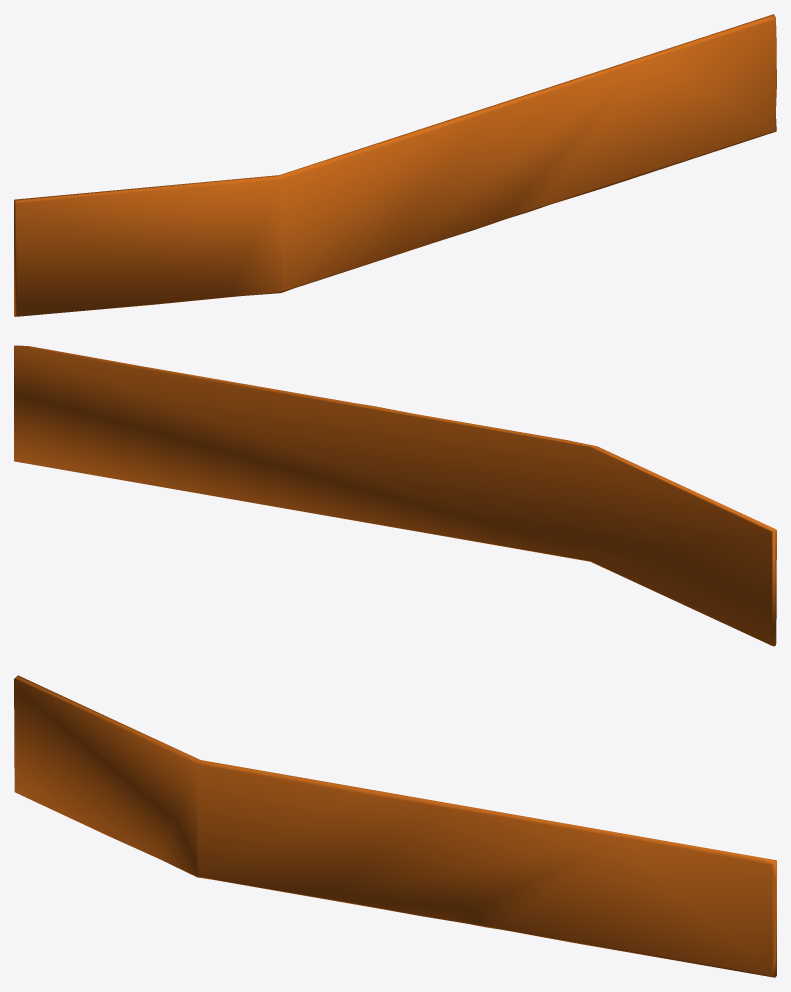
File: TombstonesCoffinWood.001.fbx
The picture shows the model from 3 angles, top to bottom: view 1: azimuth 30°, elevation 25°; view 2: azimuth 150°, elevation 25°; view 3: azimuth 330°, elevation 25°; orthographic projection.
Visible parts, largest first — view 1: TombstonesCoffinWood.001; view 2: TombstonesCoffinWood.001; view 3: TombstonesCoffinWood.001.
Part boxes in pixels (x1=…): TombstonesCoffinWood.001: x1=14, y1=14, x2=776, y2=316; TombstonesCoffinWood.001: x1=14, y1=345, x2=776, y2=646; TombstonesCoffinWood.001: x1=14, y1=675, x2=776, y2=977.
Size of the model in its own units: 683 by 99.54 by 69.3.
